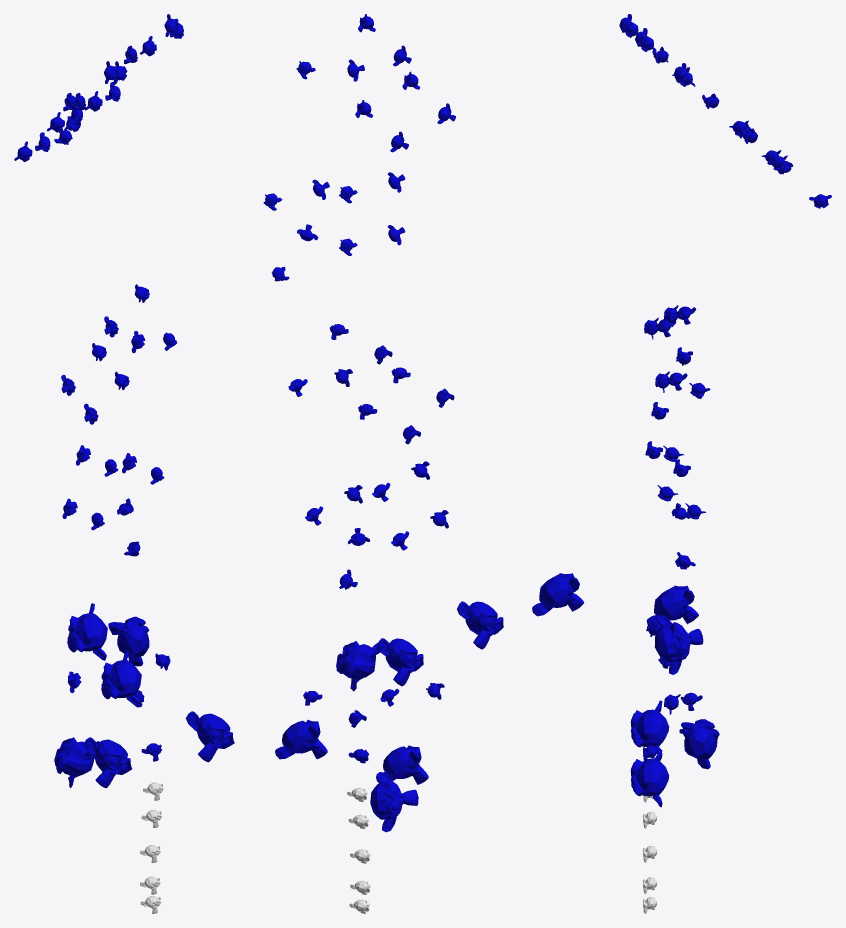
3 views of the same model, side by side, from view 1: azimuth 30°, elevation 25°; view 2: azimuth 150°, elevation 25°; view 3: azimuth 270°, elevation 25° (orthographic).
Visible parts, largest first — view 1: Suzanne_010, Suzanne_011, Suzanne_006, Suzanne_007, Suzanne_009, Suzanne_008; view 2: Suzanne_008, Suzanne_006, Suzanne_009, Suzanne_010, Suzanne_011, Suzanne_007; view 3: Suzanne_009, Suzanne_011, Suzanne_006, Suzanne_010, Suzanne_008, Suzanne_007.
Part boxes in pixels (x1,y1,x2,y2): Suzanne_010: (67,603,107,660); Suzanne_011: (101,650,141,707); Suzanne_006: (185,711,234,762); Suzanne_007: (83,737,132,788); Suzanne_009: (108,616,149,666); Suzanne_008: (54,737,99,787); Suzanne_008: (370,772,418,832); Suzanne_006: (275,720,327,759); Suzanne_009: (336,641,380,691); Suzanne_010: (377,638,423,686); Suzanne_011: (457,601,503,649); Suzanne_007: (376,745,428,784); Suzanne_009: (654,615,703,674); Suzanne_011: (532,573,583,616); Suzanne_006: (630,749,669,807); Suzanne_010: (646,585,698,628); Suzanne_008: (679,719,719,769); Suzanne_007: (630,700,669,758).
Bounding box in the file's own units: 24.11 × 35.52 × 118.
